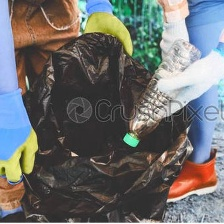bottle: (119, 36, 204, 149)
plastic_bag: (10, 26, 190, 224)
